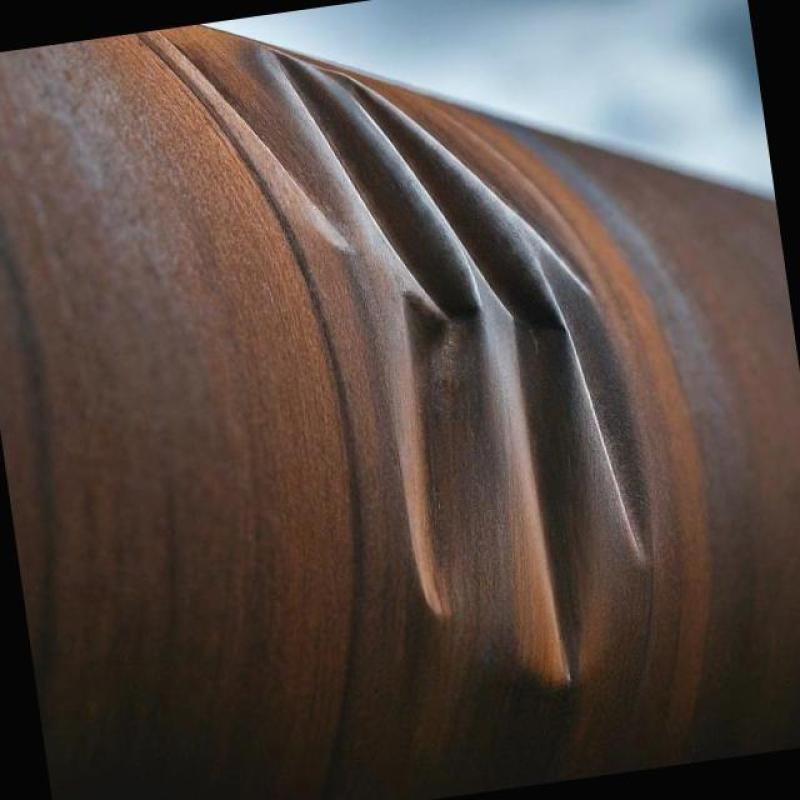Dent: (220, 12, 732, 682)
